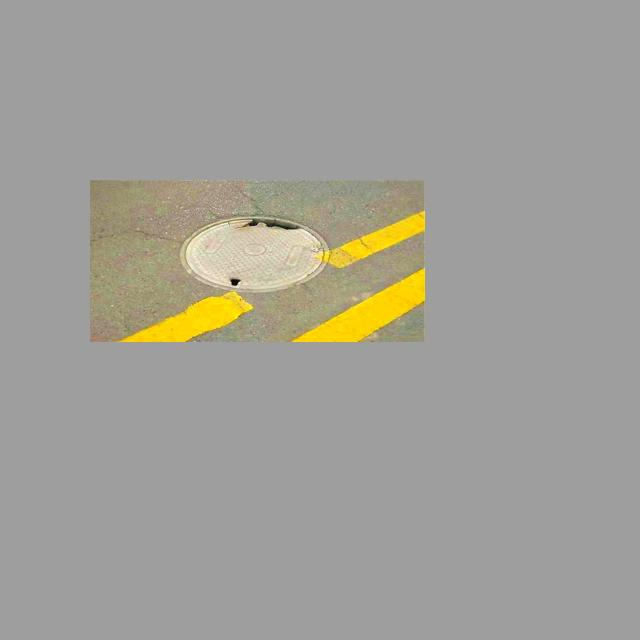broke: (176, 212, 332, 294)
